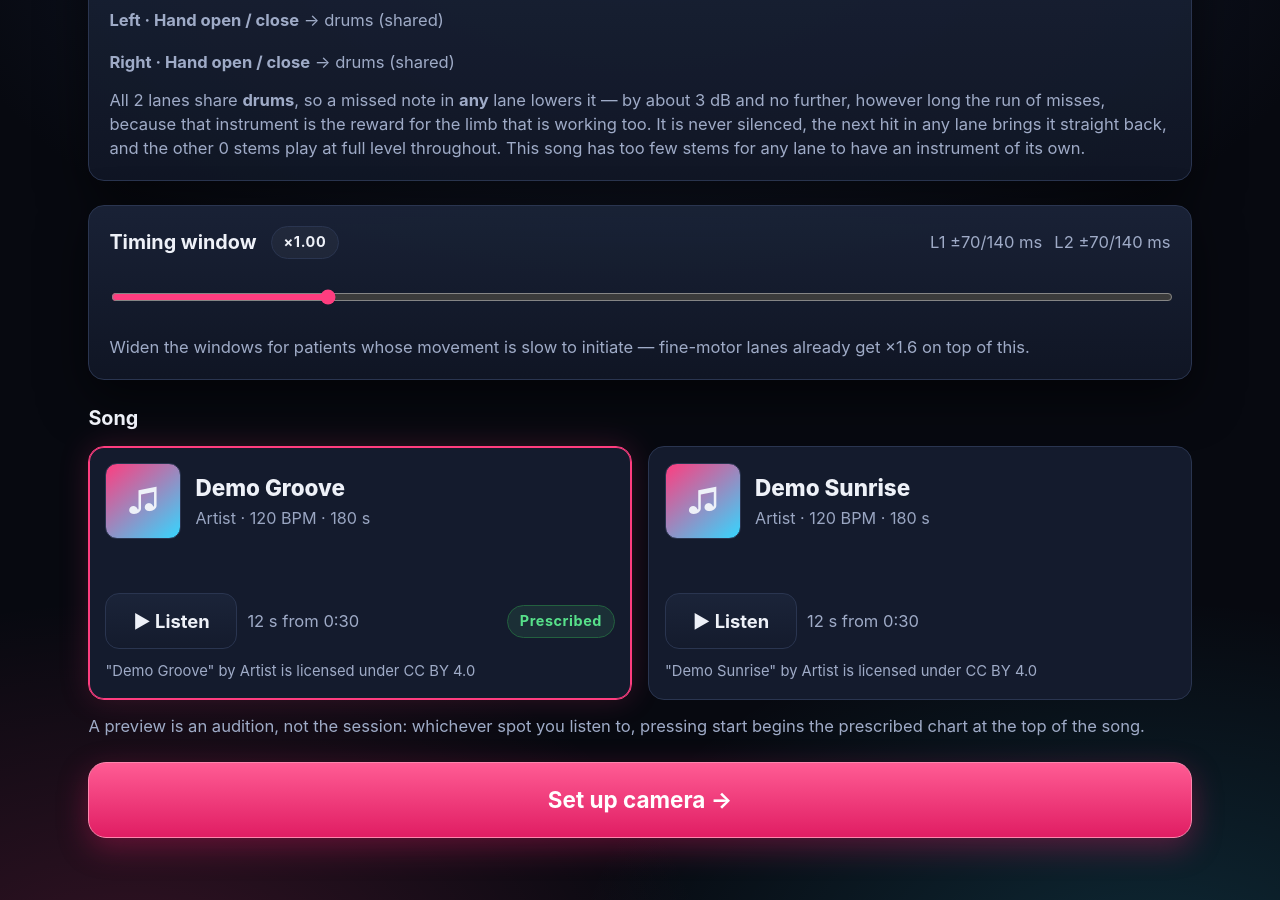
an audition can be backed out of › pressing it again aborts the fetches in flight
(page scrolled)
Click the button with test id "preview-demo-sunrise". click: (731, 622)
box: [665, 594, 797, 650]
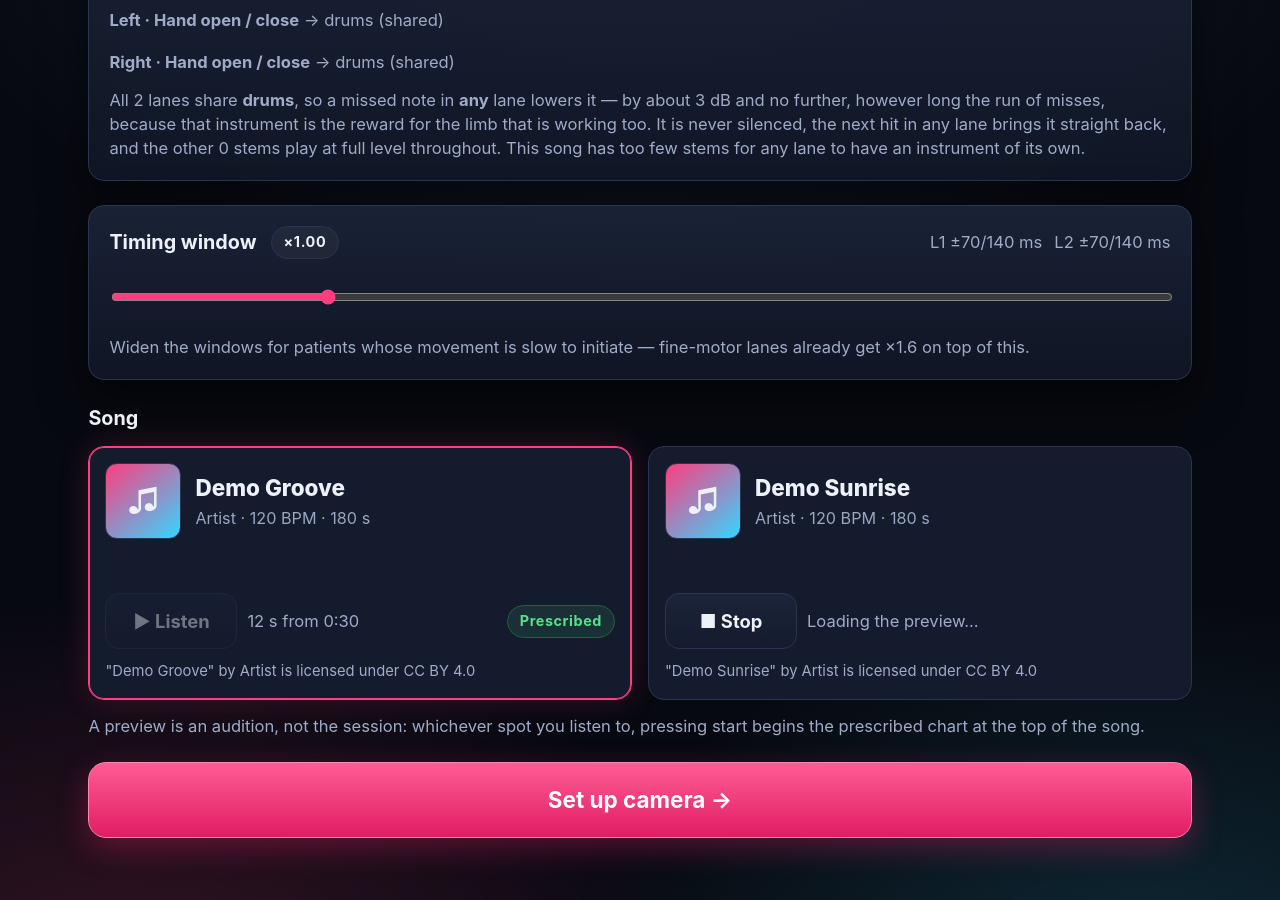
Click the button with test id "preview-demo-sunrise". click: (731, 622)
box: [665, 594, 797, 650]
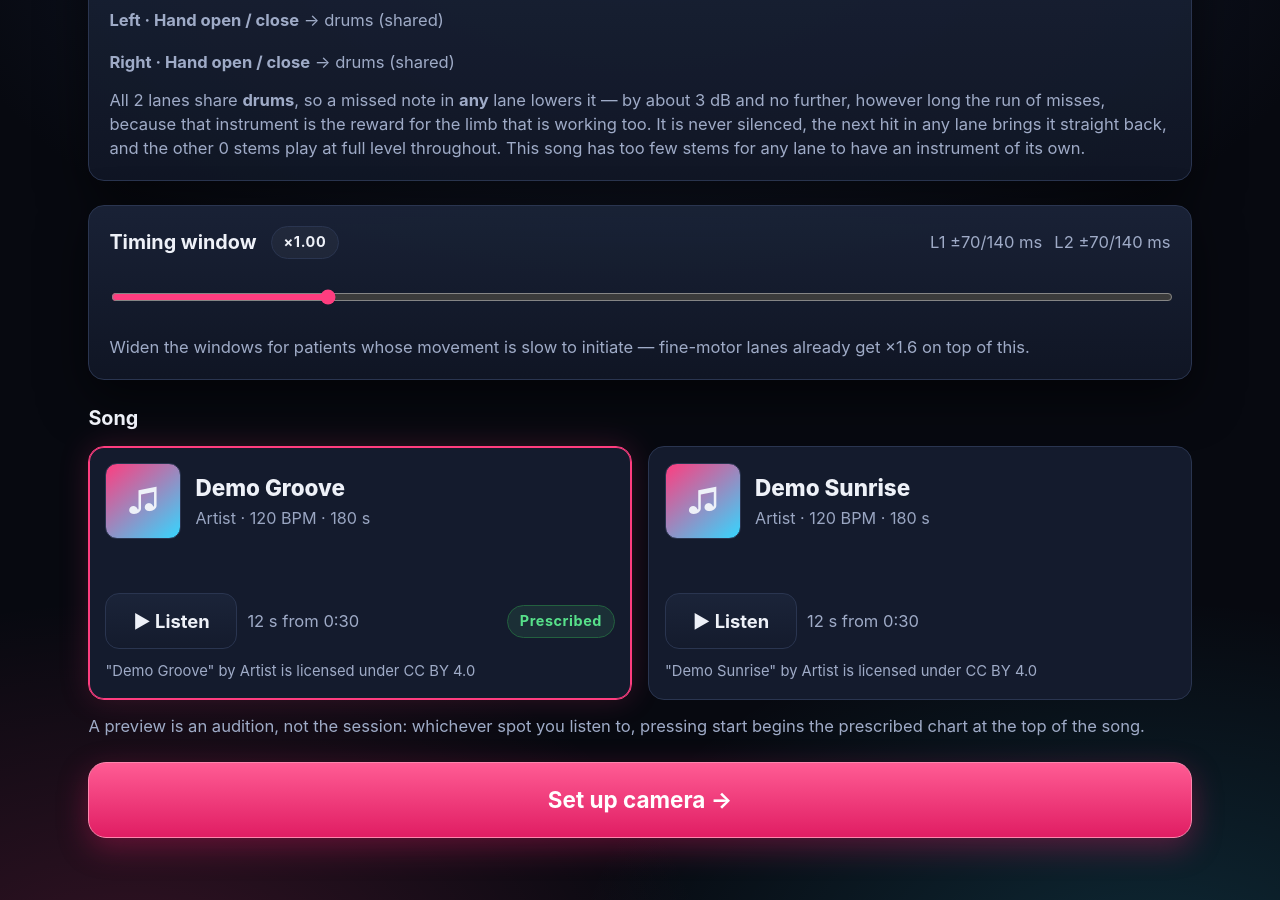
Expected: the button with test id "preview-demo-sunrise" shows "Listen", [665, 594, 797, 650]
